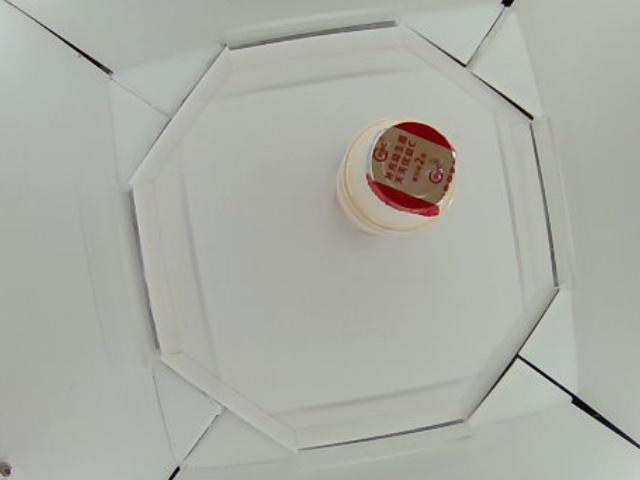Bottle: (336, 117, 457, 237)
